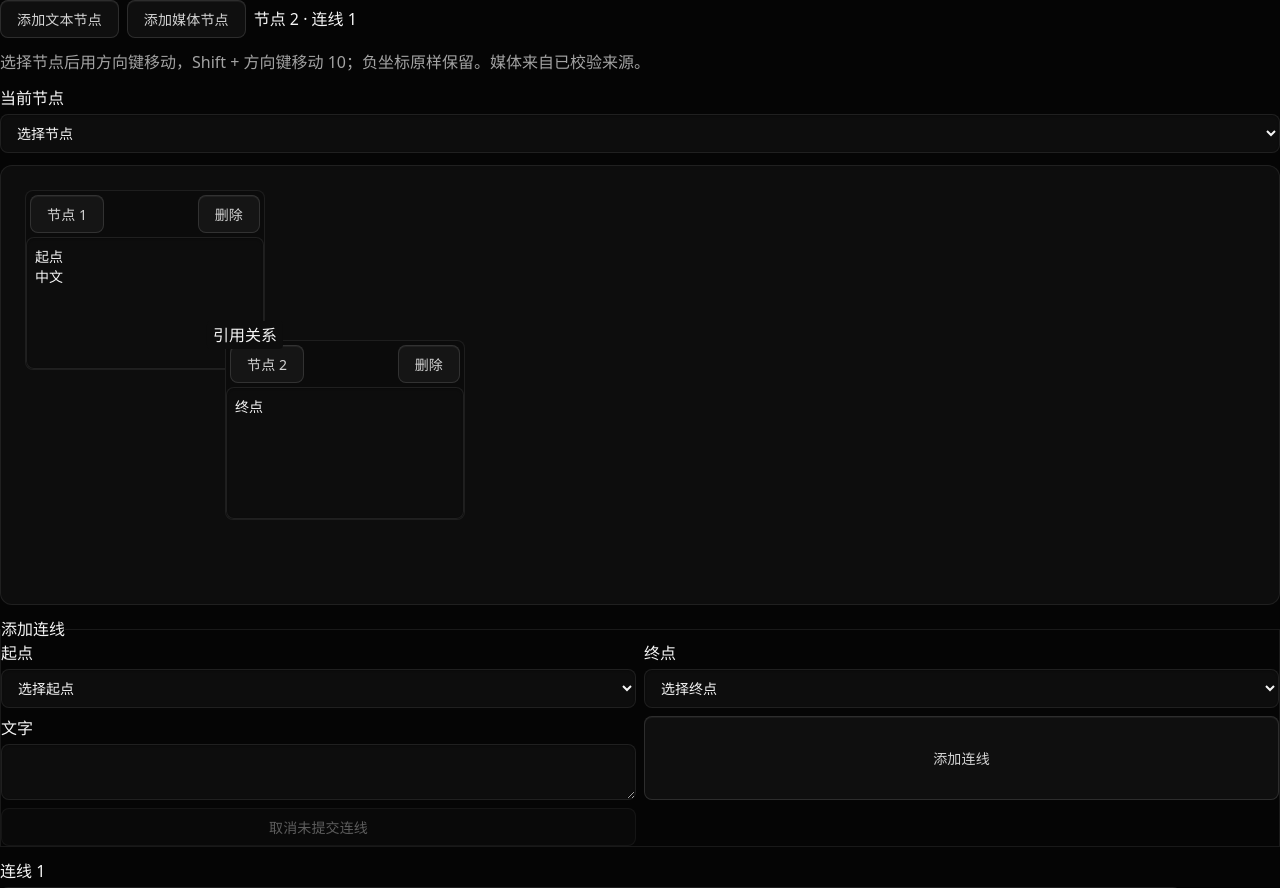
Test: CanonicalExpressionBoard › does not render active SVG/HTML or add unverified media
The width and height of the screenshot is (1280, 888).
Click the button "添加媒体节点" at (186, 19), box [127,0,246,38]
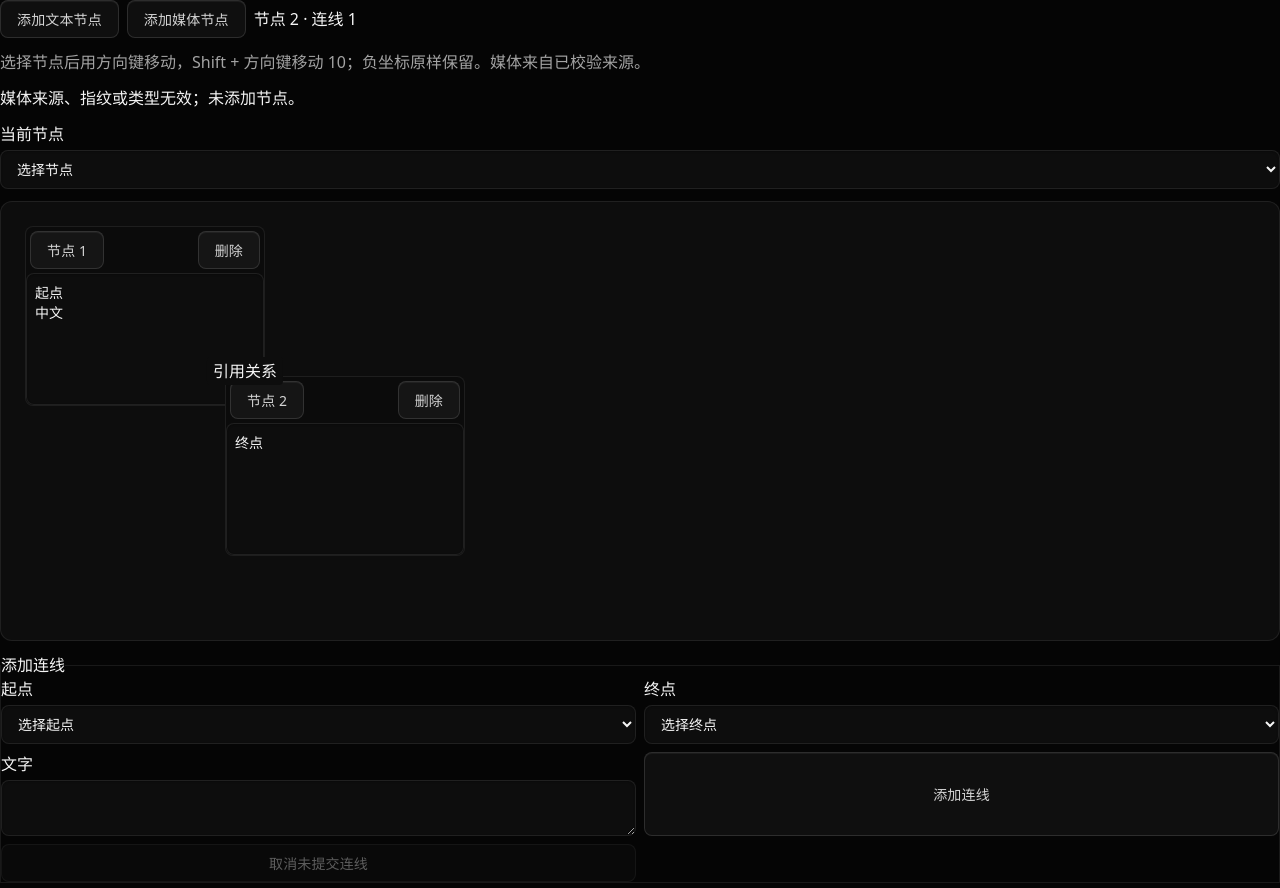
Result: the message shows "无效" at [0,87,304,109]
